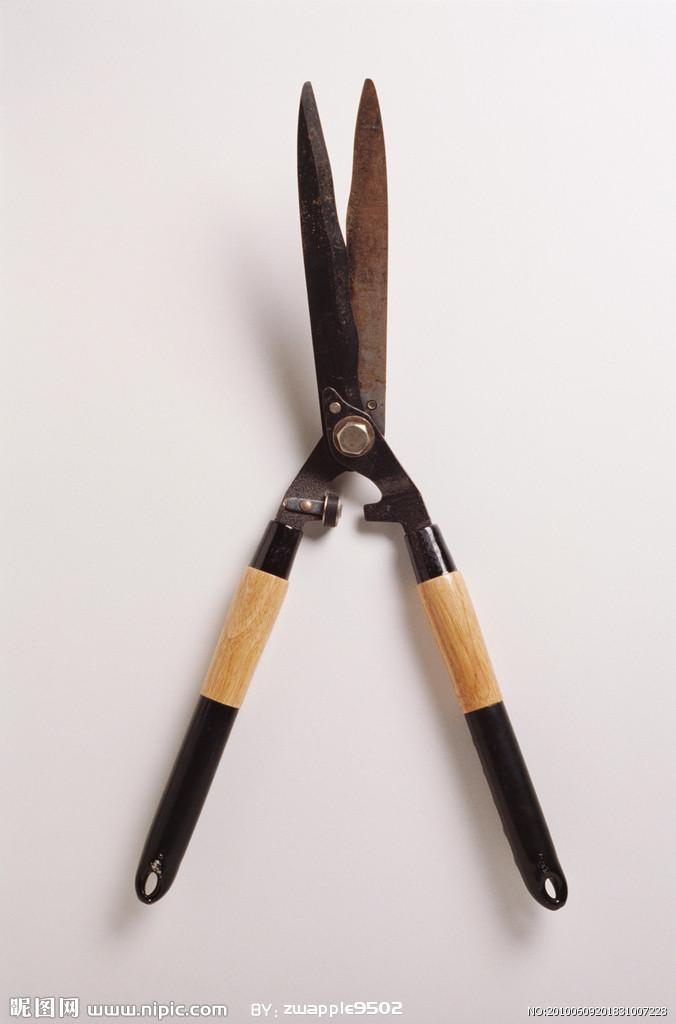scissor: (125, 60, 641, 967)
